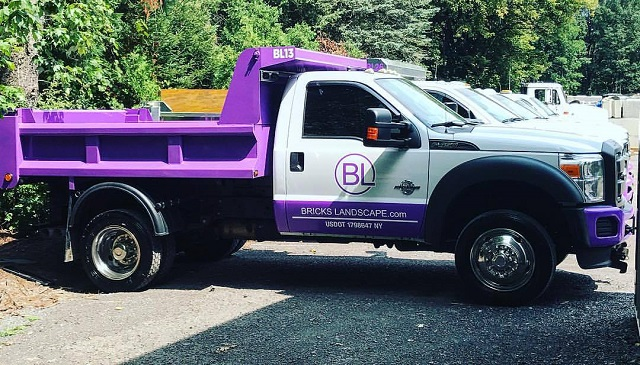car: (3, 47, 636, 303)
